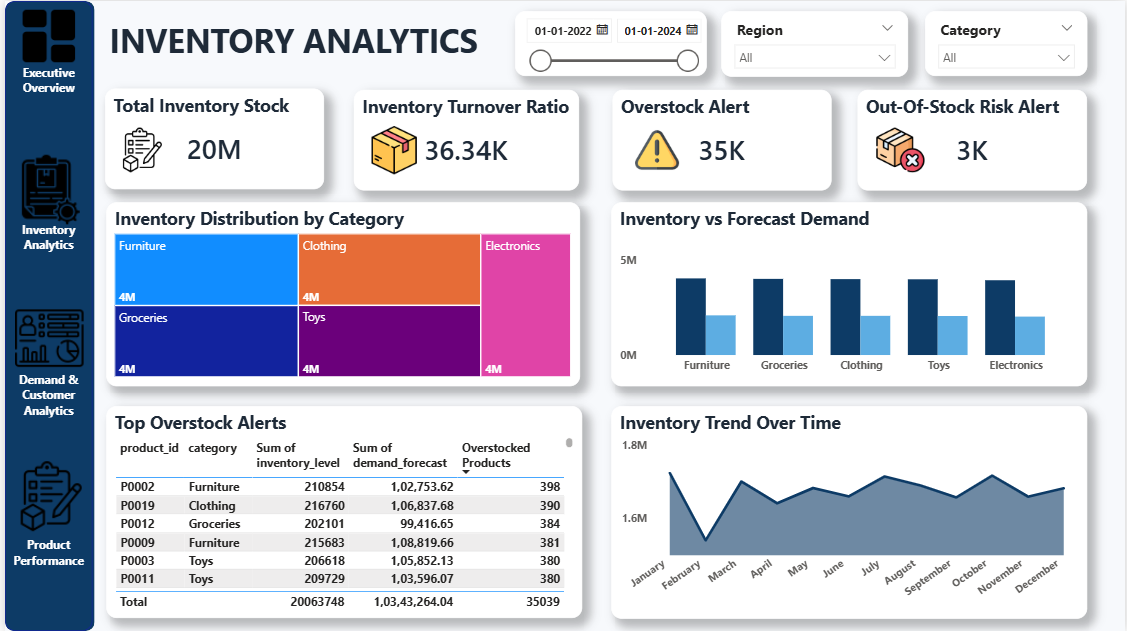

The dashboard page shown, as its layout file describes it:
{"tool":"powerbi","page":{"name":"Inventory Analytics","canvas":[1280,720],"ordinal":1},"visuals":[{"type":"shape","title":"Sidebar","box":[0,0,102.5,720],"z":0},{"type":"textbox","box":[114.6,13.8,431.4,75.7],"z":1000},{"type":"slicer","fields":{"Values":["Retail Inventory.date"]},"box":[583.5,11.5,219.6,74.8],"z":2000},{"type":"slicer","fields":{"Values":["Retail Inventory.region"]},"box":[818.9,11.3,213.6,75],"z":3000},{"type":"slicer","fields":{"Values":["Retail Inventory.category"]},"box":[1051.6,11.5,185.8,74.8],"z":4000},{"type":"cardVisual","title":"Total Inventory Stock","fields":{"Data":["Retail Inventory.Total Inventory Stock"]},"box":[114.9,100.5,250,115],"z":5000},{"type":"image","box":[131.4,140.7,51.2,57.5],"z":6000},{"type":"cardVisual","title":"Inventory Turnover Ratio","fields":{"Data":["Retail Inventory.Inventory Turnover Ratio"]},"box":[398.9,100.7,257.5,115],"z":7000},{"type":"cardVisual","title":"Overstock Alert","fields":{"Data":["Retail Inventory.Overstocked Products"]},"box":[693.9,100.7,250,115],"z":8000},{"type":"cardVisual","title":"Out-Of-Stock Risk Alert","fields":{"Data":["Retail Inventory.Out Of Stock Risk Products"]},"box":[973.9,100.7,262.5,115],"z":9000},{"type":"image","box":[416.9,143.5,55,55],"z":10000},{"type":"image","box":[995.2,140.7,55,57.5],"z":11000},{"type":"image","box":[720.2,140.7,50,57.5],"z":12000},{"type":"treemap","title":"Inventory Distribution by Category","fields":{"Group":["Retail Inventory.category"],"Values":["Sum(Retail Inventory.inventory_level)"]},"box":[115.2,229.5,541.2,210],"z":13000},{"type":"clusteredColumnChart","title":"Inventory vs Forecast Demand","fields":{"Category":["Retail Inventory.category"],"Y":["Sum(Retail Inventory.inventory_level)","Sum(Retail Inventory.demand_forecast)"]},"box":[692.7,229.5,543.8,210],"z":14000},{"type":"tableEx","title":"Top Overstock Alerts","fields":{"Values":["Retail Inventory.product_id","Retail Inventory.category","Sum(Retail Inventory.inventory_level)","Sum(Retail Inventory.demand_forecast)","Retail Inventory.Overstocked Products"]},"box":[115.2,463.2,543.8,242.5],"z":15000},{"type":"areaChart","title":"Inventory Trend Over Time","fields":{"Category":["Retail Inventory.date.Variation.Date Hierarchy.Month"],"Y":["Sum(Retail Inventory.inventory_level)"]},"box":[692.9,463.5,544,243],"z":16000},{"type":"pageNavigator","box":[0,0,100,720],"z":17000},{"type":"image","box":[6.2,10,88.8,60],"z":18000},{"type":"image","box":[10,143.8,85,142.5],"z":19000},{"type":"image","box":[11.2,336.2,78.8,98.8],"z":20000},{"type":"image","box":[12.5,477.5,80,177.5],"z":21000}]}

Visuals, with their boxes in screenshot pixels (x1, y1, x2, y2), scaled from the page's 1280x720 canvas onto the 1127x631 screenshot:
"Sidebar" shape: region(0, 0, 90, 630)
textbox: region(101, 12, 481, 78)
slicer - Retail Inventory.date: region(514, 10, 707, 76)
slicer - Retail Inventory.region: region(721, 10, 909, 76)
slicer - Retail Inventory.category: region(926, 10, 1089, 76)
"Total Inventory Stock" cardVisual: region(101, 88, 321, 189)
image: region(116, 123, 161, 174)
"Inventory Turnover Ratio" cardVisual: region(351, 88, 578, 189)
"Overstock Alert" cardVisual: region(611, 88, 831, 189)
"Out-Of-Stock Risk Alert" cardVisual: region(857, 88, 1089, 189)
image: region(367, 126, 415, 174)
image: region(876, 123, 925, 174)
image: region(634, 123, 678, 174)
"Inventory Distribution by Category" treemap: region(101, 201, 578, 385)
"Inventory vs Forecast Demand" clusteredColumnChart: region(610, 201, 1089, 385)
"Top Overstock Alerts" tableEx: region(101, 406, 580, 618)
"Inventory Trend Over Time" areaChart: region(610, 406, 1089, 619)
pageNavigator: region(0, 0, 88, 630)
image: region(5, 9, 84, 61)
image: region(9, 126, 84, 251)
image: region(10, 295, 79, 381)
image: region(11, 418, 81, 574)
